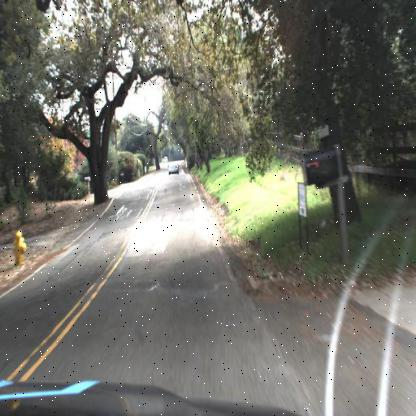car: (165, 158, 182, 178)
